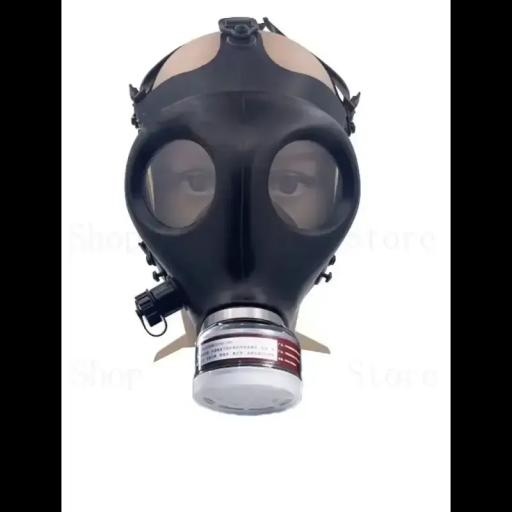mask: (120, 98, 374, 418)
